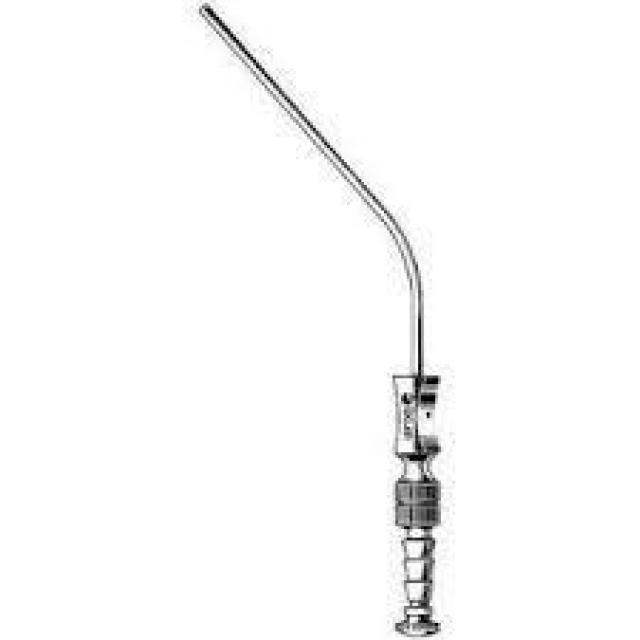Frazier: (194, 0, 446, 640)
